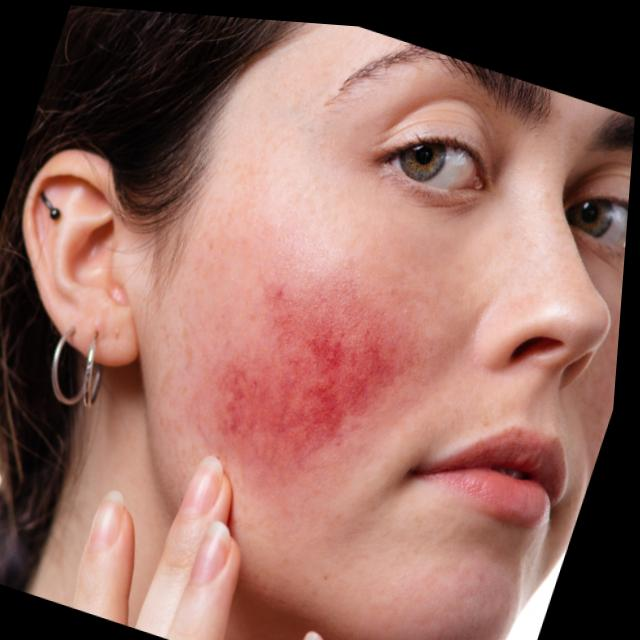skinredness: (181, 250, 445, 489)
vascular: (215, 313, 337, 457)
